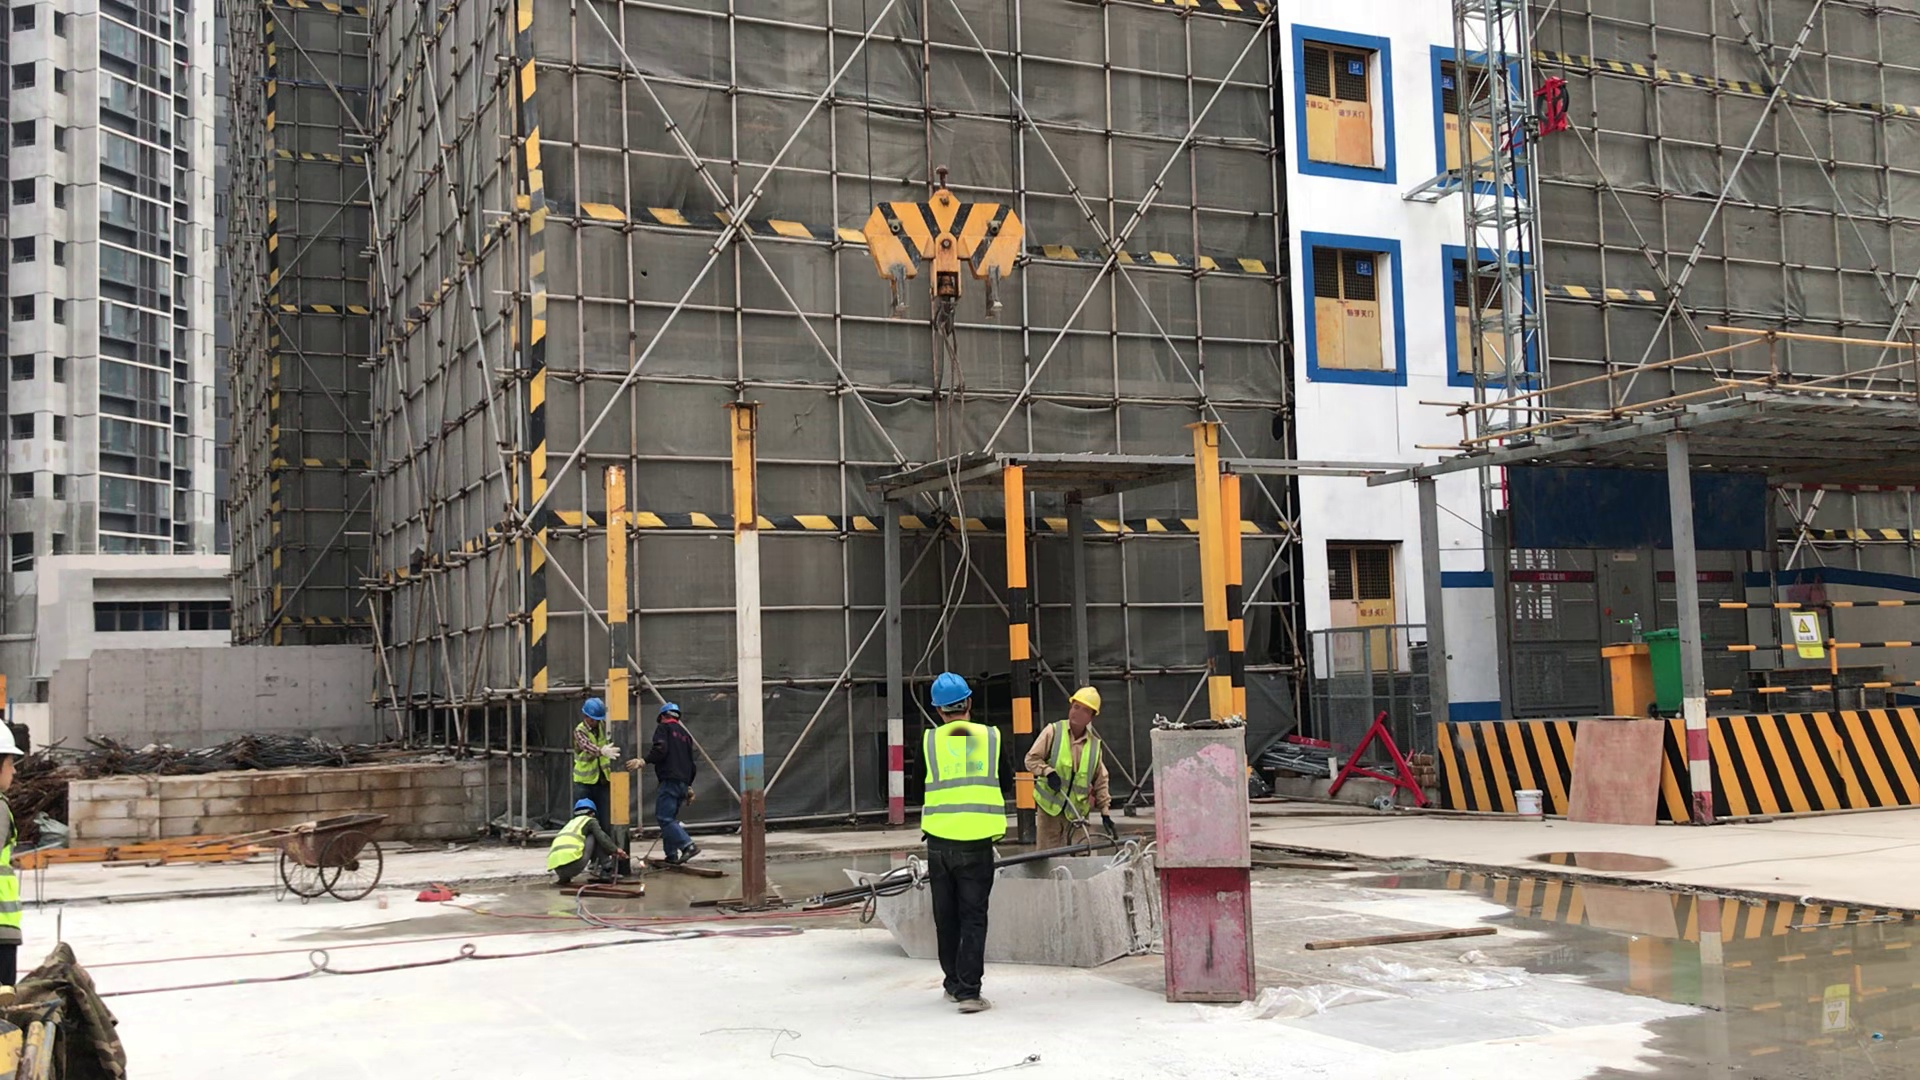fence: (1692, 591, 1920, 721)
handcart: (196, 797, 407, 908)
helmet: (927, 665, 983, 706), (2, 716, 35, 785), (1065, 672, 1112, 718), (578, 692, 620, 722), (650, 695, 690, 727), (563, 792, 602, 816)
hook: (837, 155, 1060, 353)
hopper: (807, 842, 1164, 973)
person: (900, 649, 1031, 1030), (2, 688, 67, 989), (1031, 662, 1142, 820), (639, 684, 719, 865), (538, 785, 646, 896), (563, 680, 628, 804)
rebar: (781, 872, 937, 928)
slogan: (1763, 584, 1840, 672)
vest: (913, 724, 1012, 857), (1030, 719, 1101, 832), (1, 795, 44, 955), (562, 722, 624, 782), (545, 812, 594, 882)
